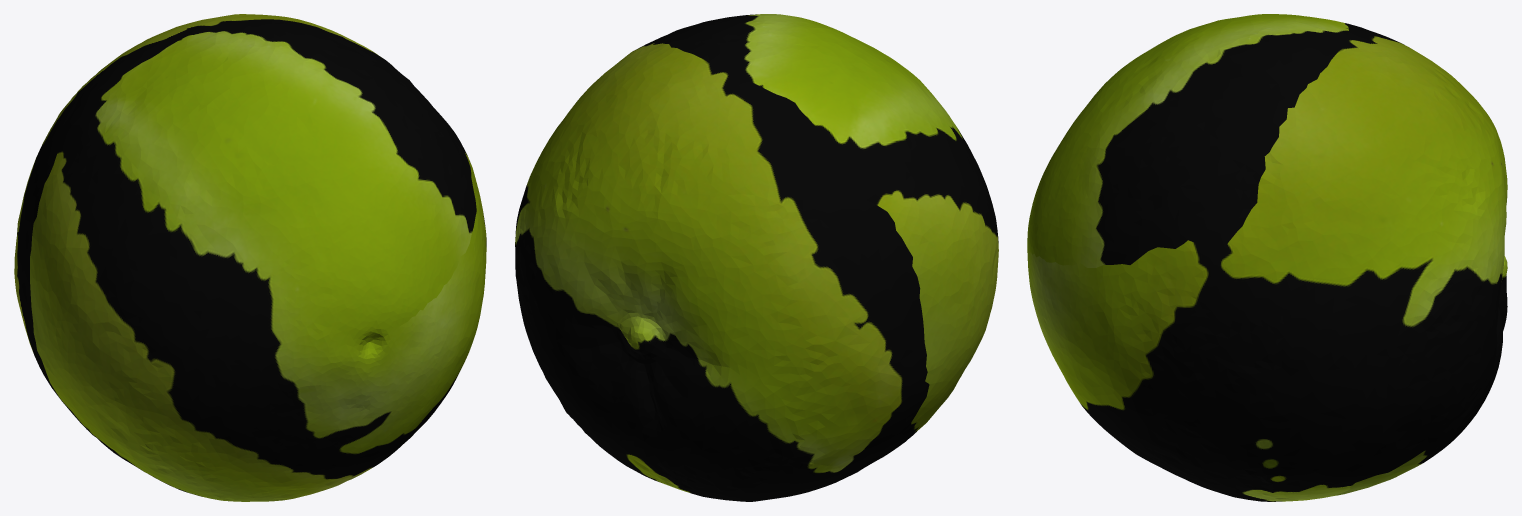
3 views of the same model, side by side, from view 1: azimuth 30°, elevation 25°; view 2: azimuth 150°, elevation 25°; view 3: azimuth 270°, elevation 25° (orthographic). The views are drawn at different scales.
Visible parts, largest first — view 1: node; view 2: node; view 3: node.
Boxes of the visible parts, x1=… form: node: x1=14, y1=14, x2=486, y2=501; node: x1=515, y1=14, x2=998, y2=501; node: x1=1027, y1=14, x2=1507, y2=501.
Bounding box in the file's own units: 0.0722 × 0.074 × 0.0714.
